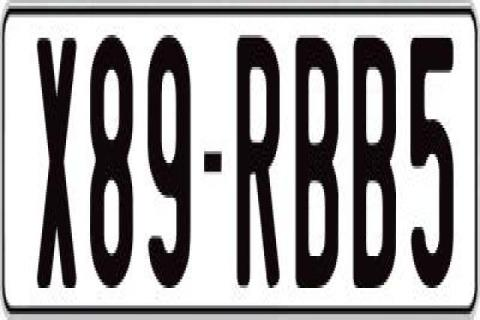0: (90, 29, 140, 291), (406, 32, 456, 282), (148, 35, 192, 294)
B: (349, 29, 396, 297), (292, 32, 336, 300)
R: (236, 32, 282, 291)
X: (35, 35, 81, 285)
